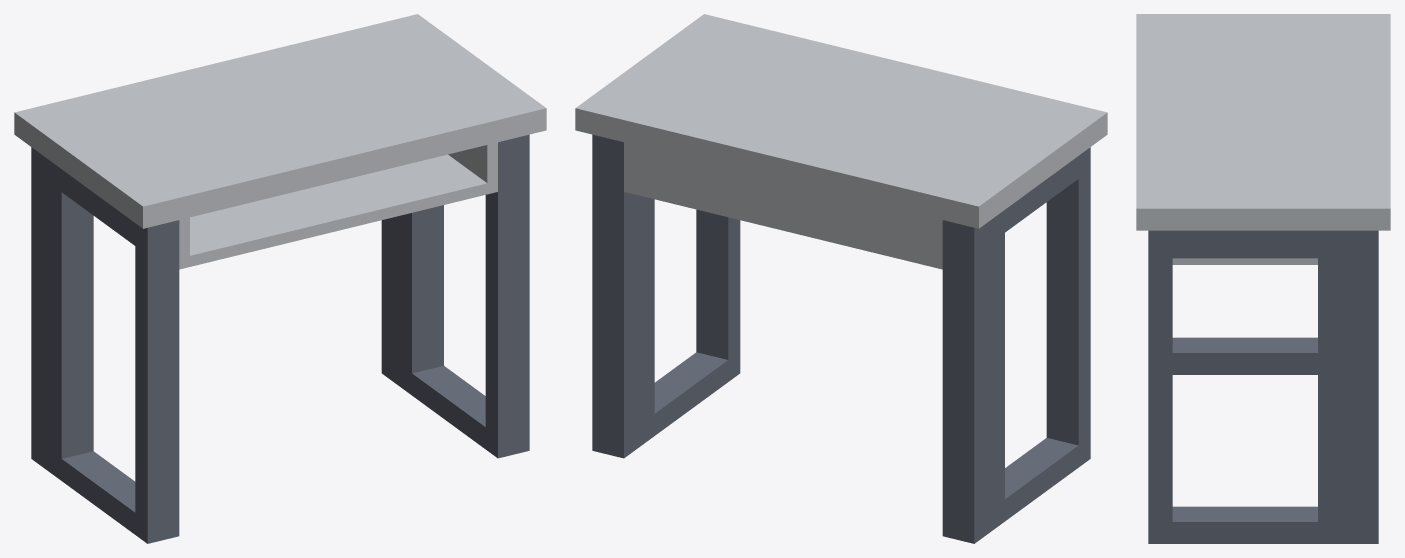
Rendered from student_desk.obj.
The picture shows the model from 3 angles, left to right: view 1: azimuth 30°, elevation 25°; view 2: azimuth 150°, elevation 25°; view 3: azimuth 270°, elevation 25°; orthographic projection.
Size of the model in its own units: 3.8 by 3.1 by 2.1.
1 material, 1 textured.
